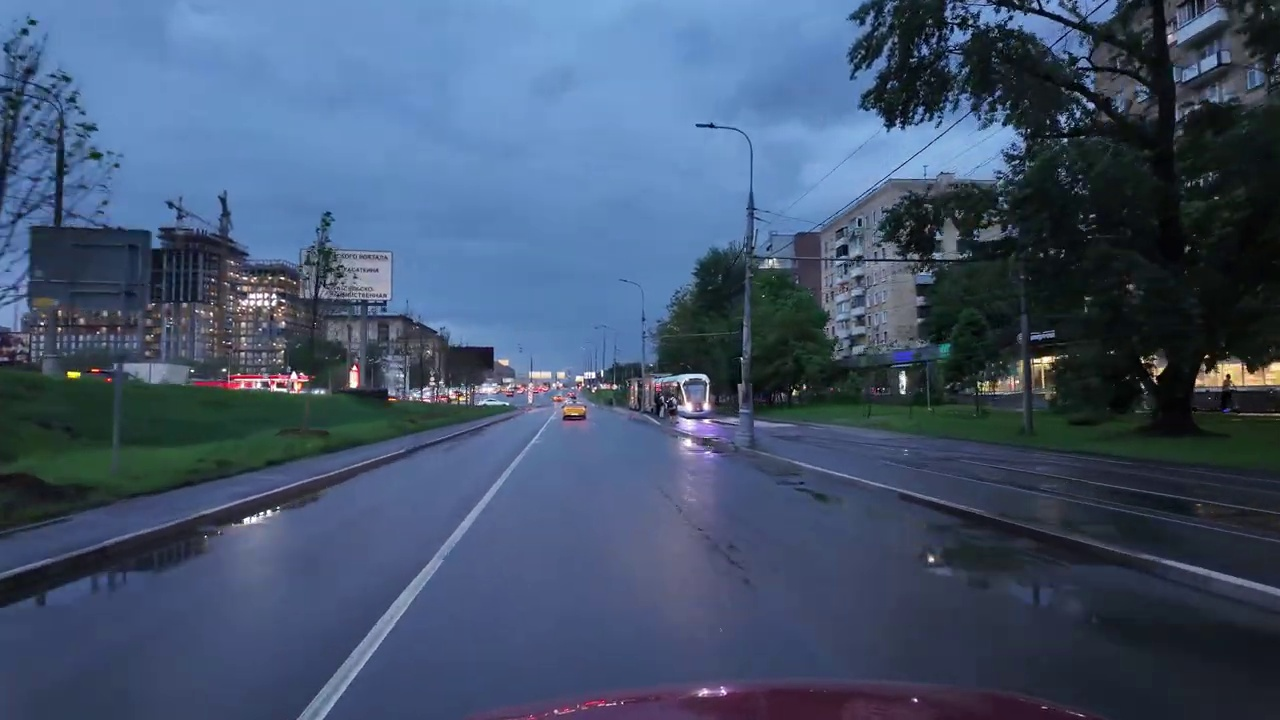apagada: (693, 115, 722, 138)
